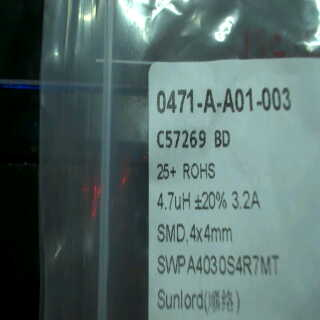4.7uH: (156, 188, 196, 216)
